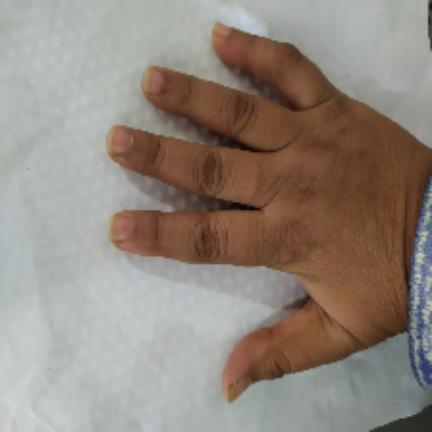Nail: (226, 377, 255, 403), (109, 213, 135, 241), (107, 126, 133, 154), (142, 69, 163, 92), (213, 22, 232, 38)
